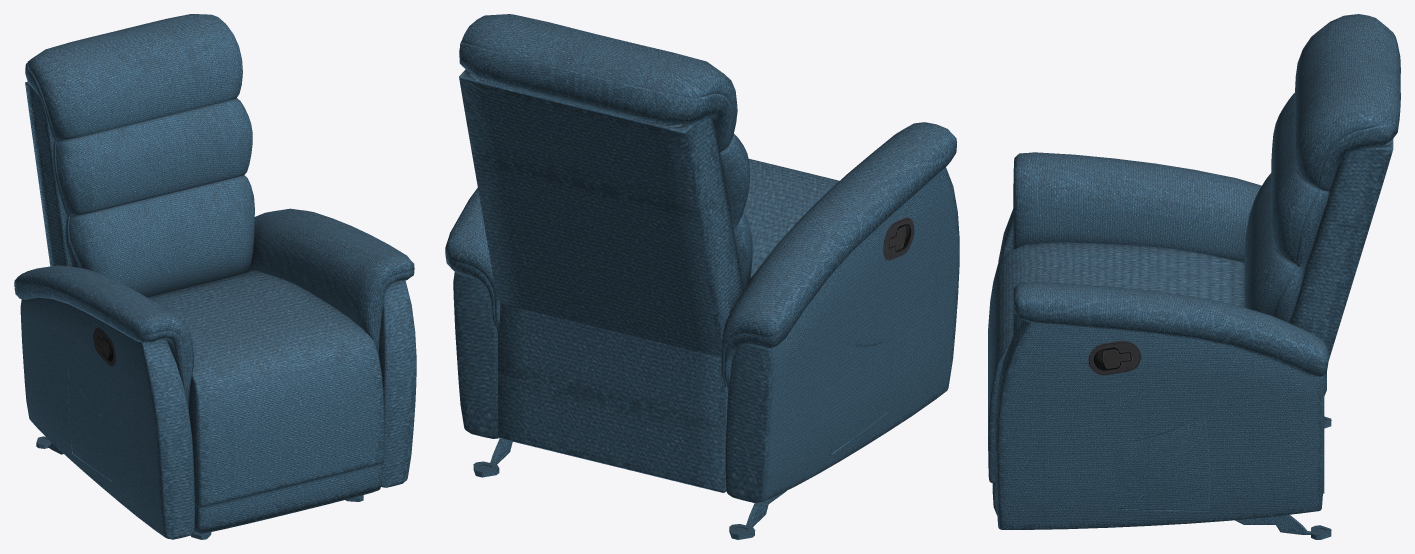
The picture shows the model from 3 angles, left to right: view 1: azimuth 30°, elevation 25°; view 2: azimuth 150°, elevation 25°; view 3: azimuth 270°, elevation 25°; orthographic projection. The views are drawn at different scales.
Parts seen in each view (by area): view 1: sofa; view 2: sofa; view 3: sofa.
Boxes of the visible parts, x1,y1,x2,y2 form: sofa: (14, 14, 416, 539); sofa: (445, 14, 959, 539); sofa: (988, 14, 1400, 539).
Size of the model in its own units: 0.7448 by 0.9603 by 0.8528.
1 material, 1 textured.
